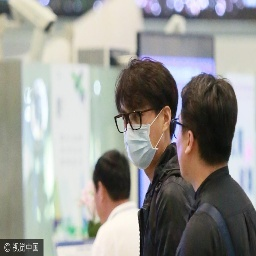correctlyWear: (113, 102, 172, 170)
noWear: (174, 108, 233, 174), (92, 174, 131, 223)
